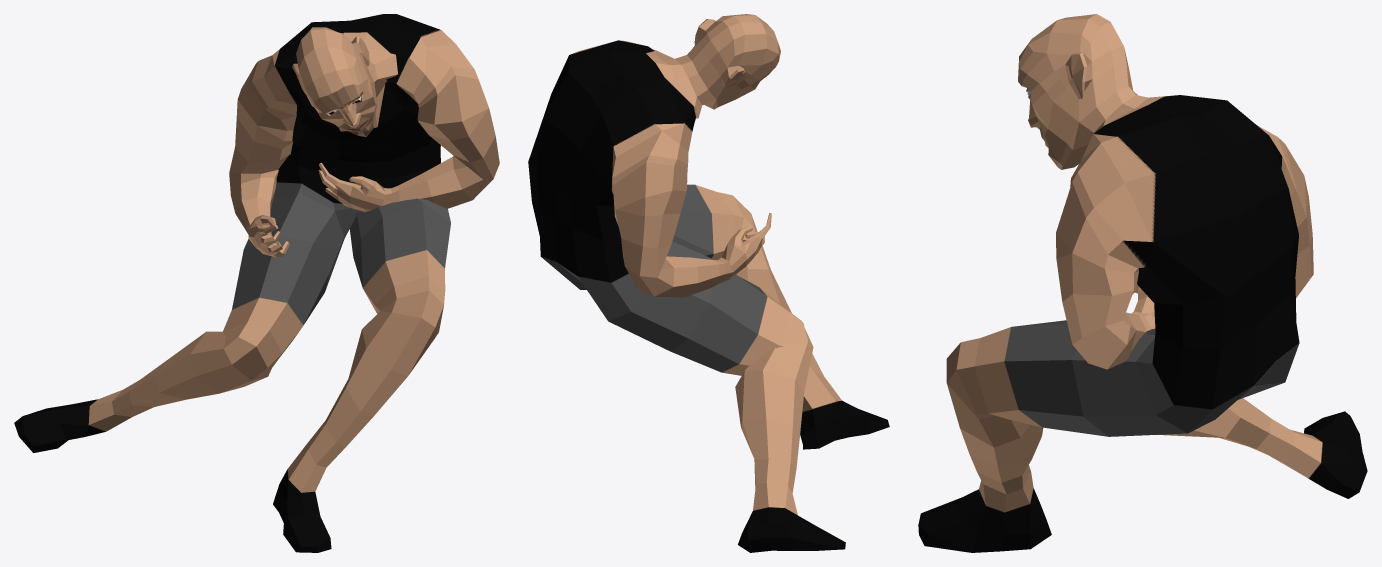
Rendered from PlayerDead(35).obj.
The picture shows the model from 3 angles, left to right: view 1: azimuth 30°, elevation 25°; view 2: azimuth 150°, elevation 25°; view 3: azimuth 270°, elevation 25°; orthographic projection. The views are drawn at different scales.
Parts seen in each view (by area): view 1: Plane002; view 2: Plane002; view 3: Plane002.
Boxes of the visible parts, x1,y1,x2,y2 form: Plane002: (14, 14, 499, 552); Plane002: (528, 14, 889, 552); Plane002: (918, 14, 1367, 552).
Bounding box in the file's own units: 1014 × 1156 × 833.
